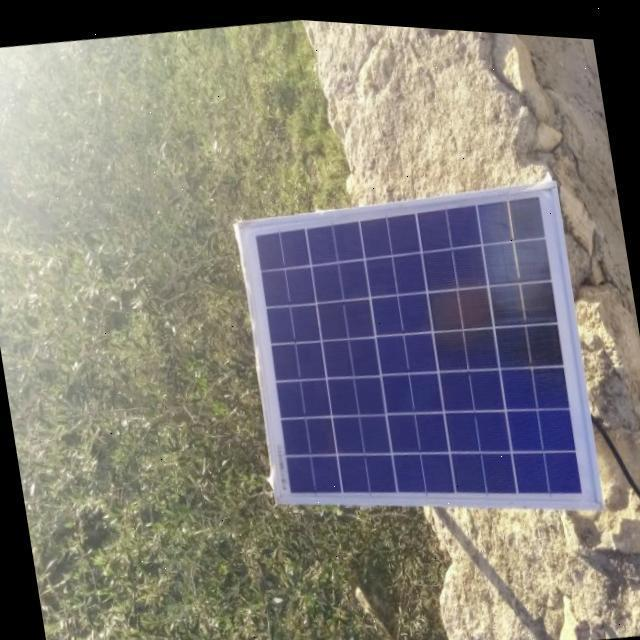Normal Solar Panel: (232, 157, 609, 547)
